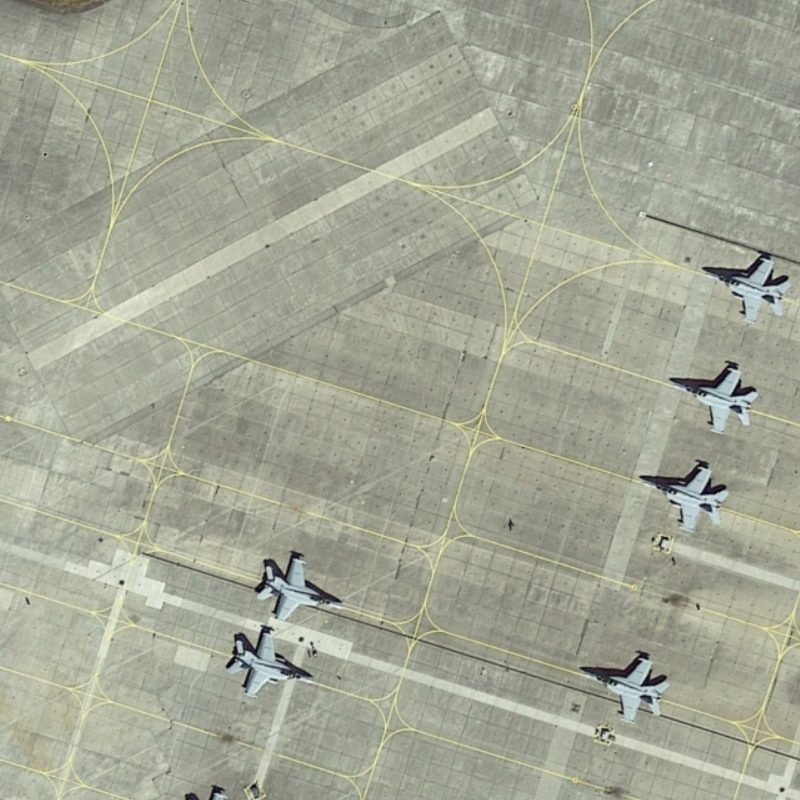A16: (624, 455, 737, 537), (571, 643, 673, 729), (692, 246, 796, 327), (218, 620, 319, 700), (662, 356, 764, 435), (247, 546, 348, 623)
